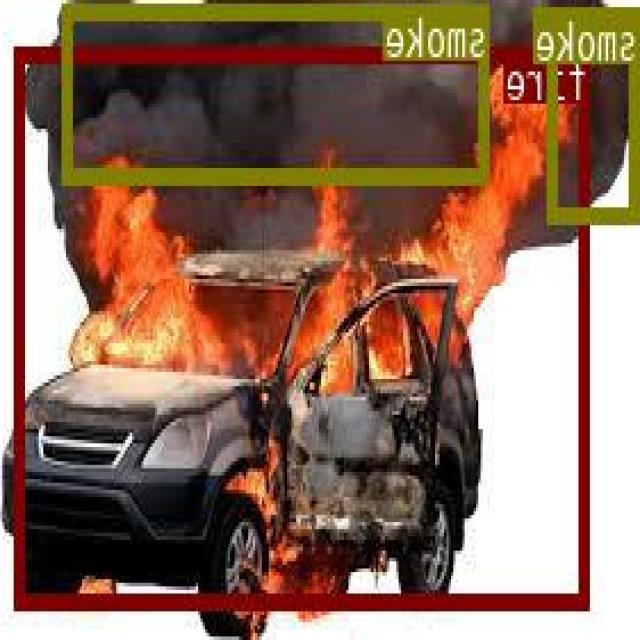fire: (18, 45, 592, 608)
smoke: (66, 2, 490, 180), (551, 3, 640, 222)
